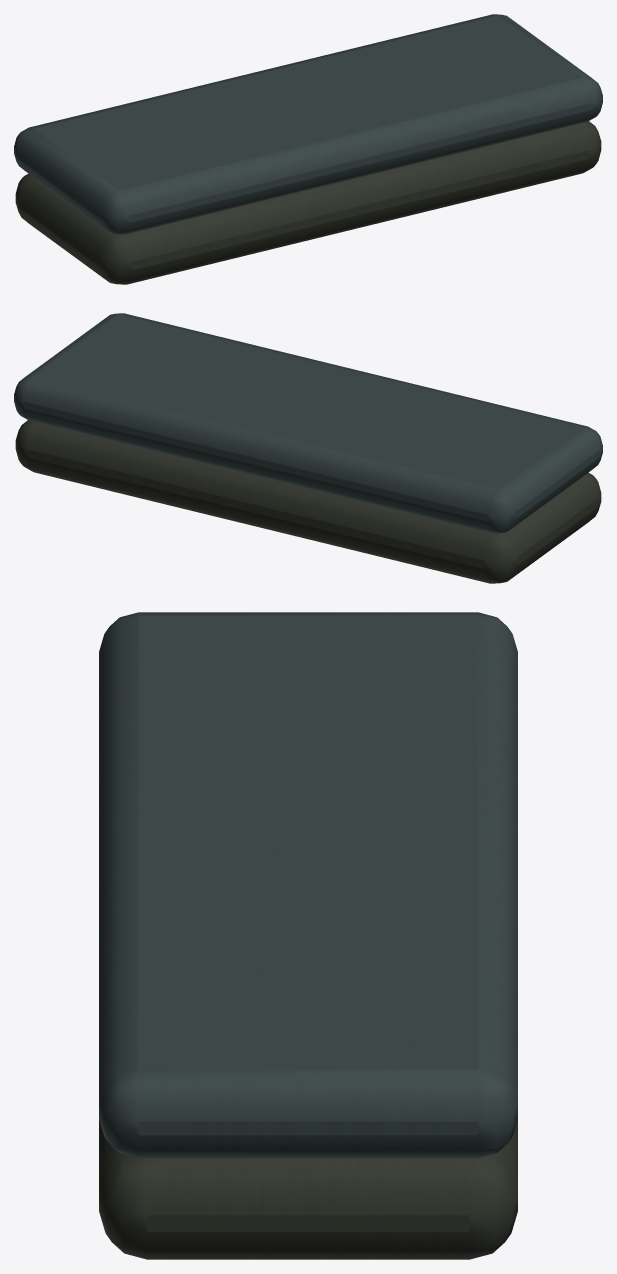
The model's file is SharpeningStone.gltf.
3 renders of one model, top to bottom at view 1: azimuth 30°, elevation 25°; view 2: azimuth 150°, elevation 25°; view 3: azimuth 270°, elevation 25°, orthographic. The views are drawn at different scales.
Parts seen in each view (by area): view 1: SharpeningStone__Body; view 2: SharpeningStone__Body; view 3: SharpeningStone__Body.
Boxes of the visible parts, x1,y1,x2,y2 form: SharpeningStone__Body: (14, 14, 602, 284); SharpeningStone__Body: (14, 313, 602, 583); SharpeningStone__Body: (99, 612, 517, 1259).
Bounding box in the file's own units: 0.154 × 0.028 × 0.056.
Materials: 1 (1 with a texture image).
